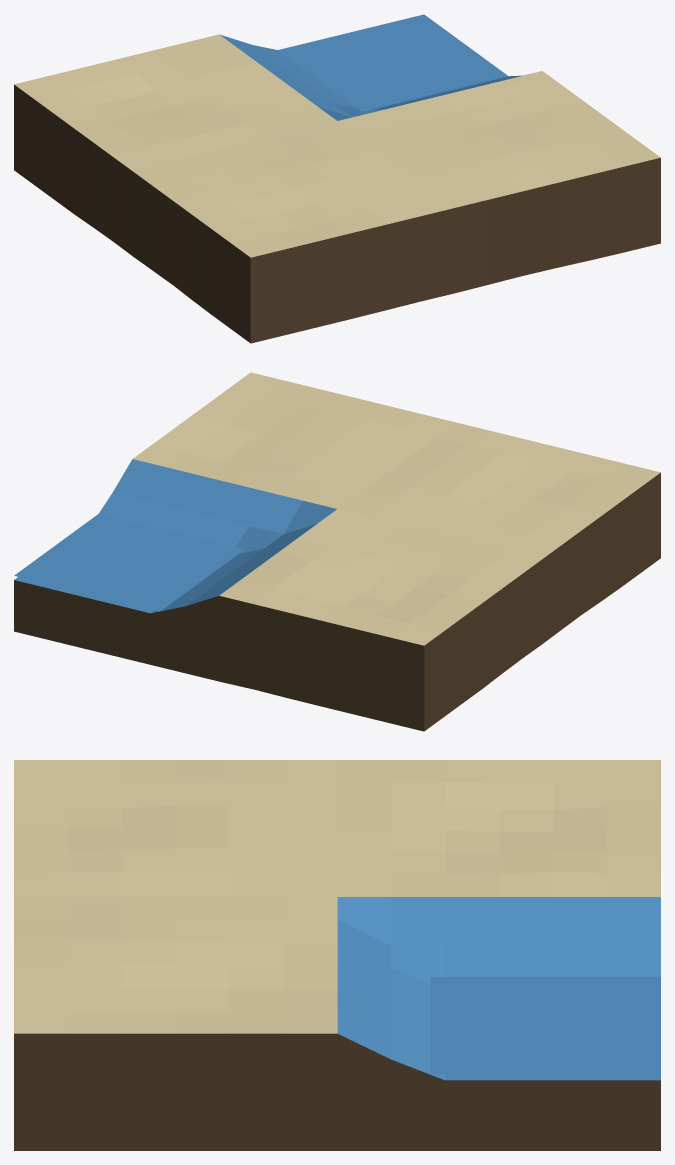
The model's file is sand_water_corner.glb.
3 renders of one model, top to bottom at view 1: azimuth 30°, elevation 25°; view 2: azimuth 150°, elevation 25°; view 3: azimuth 270°, elevation 25°, orthographic. The views are drawn at different scales.
Parts seen in each view (by area): view 1: Grid; view 2: Grid; view 3: Grid.
Part boxes in pixels (x1,y1,x2,y2): Grid: [14, 14, 660, 343]; Grid: [14, 372, 660, 731]; Grid: [14, 760, 660, 1150].
Bounding box in the file's own units: 1 × 0.2043 × 1.
